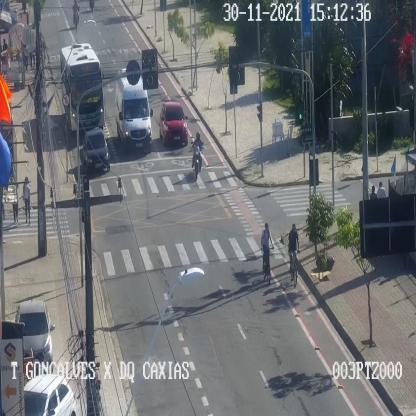bicycle: (260, 222, 274, 284), (288, 223, 300, 285)
bus: (60, 43, 104, 130)
car: (115, 68, 151, 152), (16, 300, 52, 372), (23, 374, 76, 415), (159, 101, 188, 146), (82, 128, 110, 170)
motorbike: (192, 131, 204, 180), (70, 0, 82, 33)
person: (22, 176, 30, 223), (12, 177, 18, 223)
